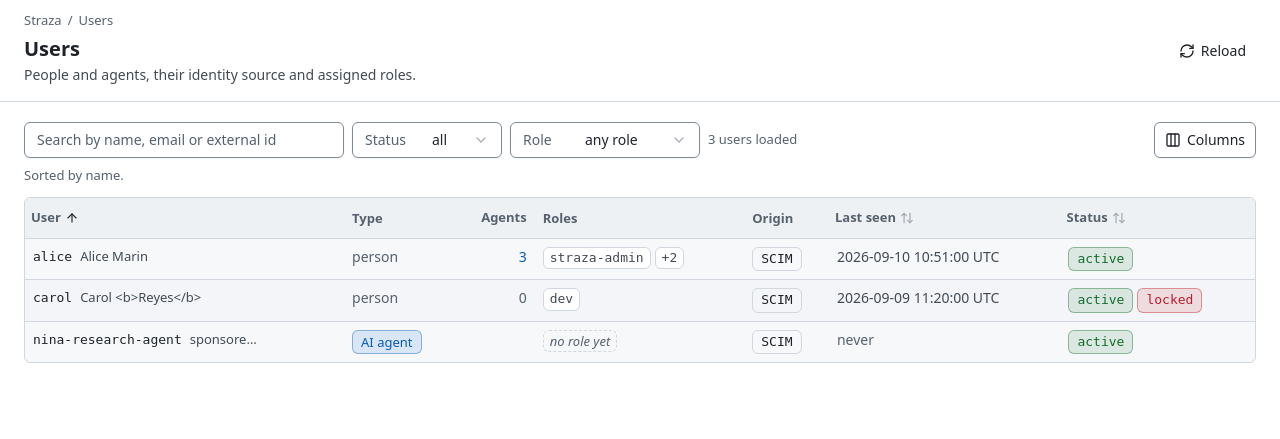
Test: the Users screen › keeps the rows when a reload cannot reach strazad, and says so with the last read
Expected: the button with aria-label "Open alice" is shown, left=25, top=238, right=1255, bottom=280
Click the button with aria-label "Reload the list".
click(1212, 50)  # box left=1169, top=34, right=1256, bottom=66
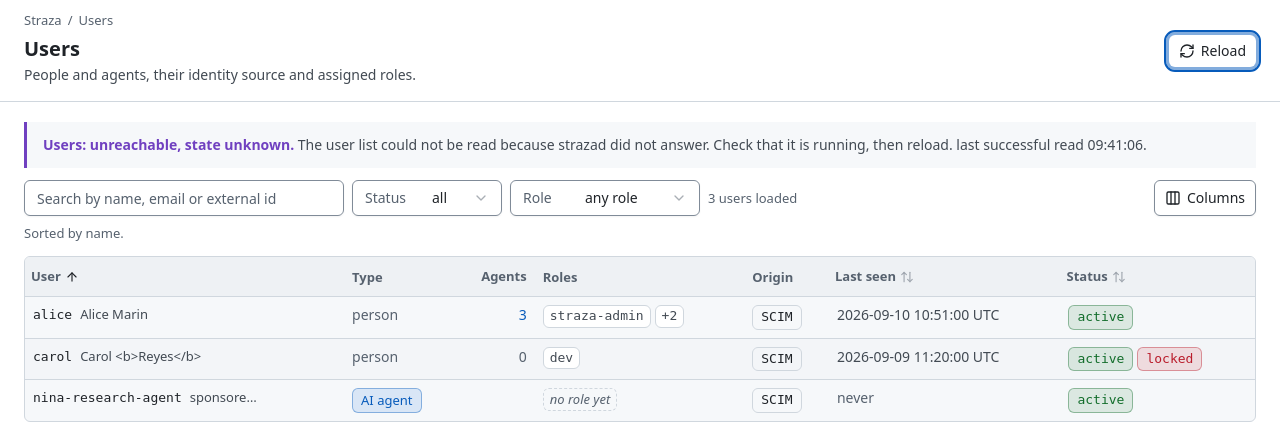
Now the message shows "Users: unreachable, state unknown.", box left=43, top=134, right=294, bottom=154
Now the message shows "The user list could not be read because strazad did not answer.", box left=298, top=134, right=953, bottom=154
Now the message shows "last successful read", box left=953, top=134, right=1147, bottom=154
